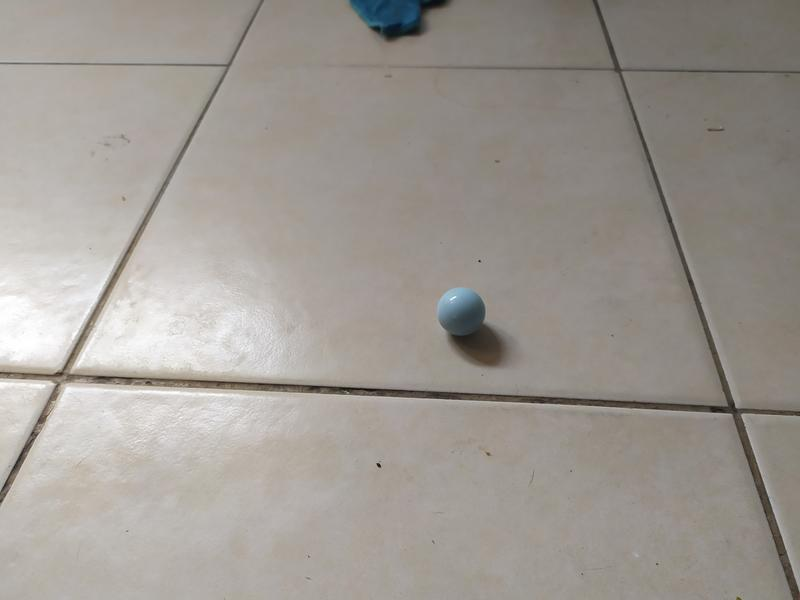Warning: (435, 285, 488, 338)
